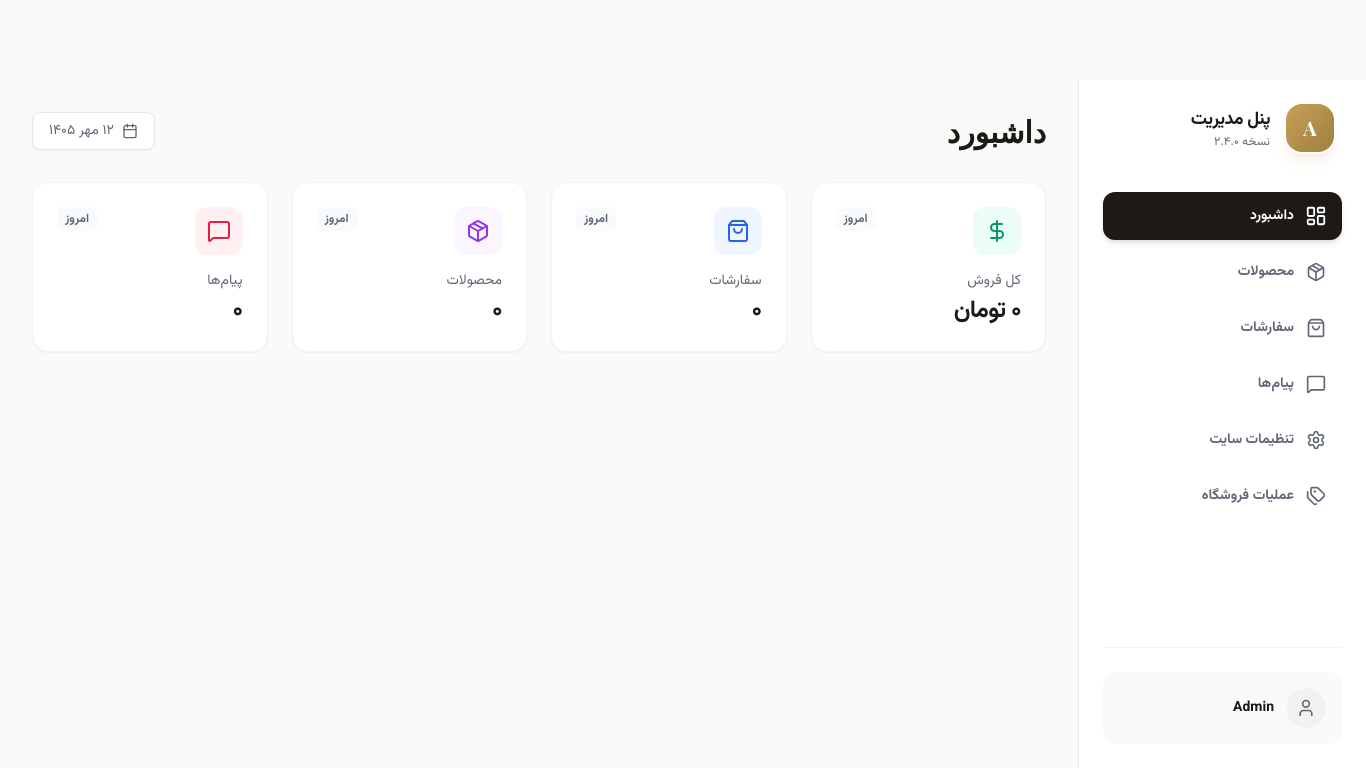
Scenario: product pagination sends search and sort to the server, resets page and handles page failure/retry
Click the button "محصولات". click: click(1222, 272)
box: [1103, 248, 1342, 296]
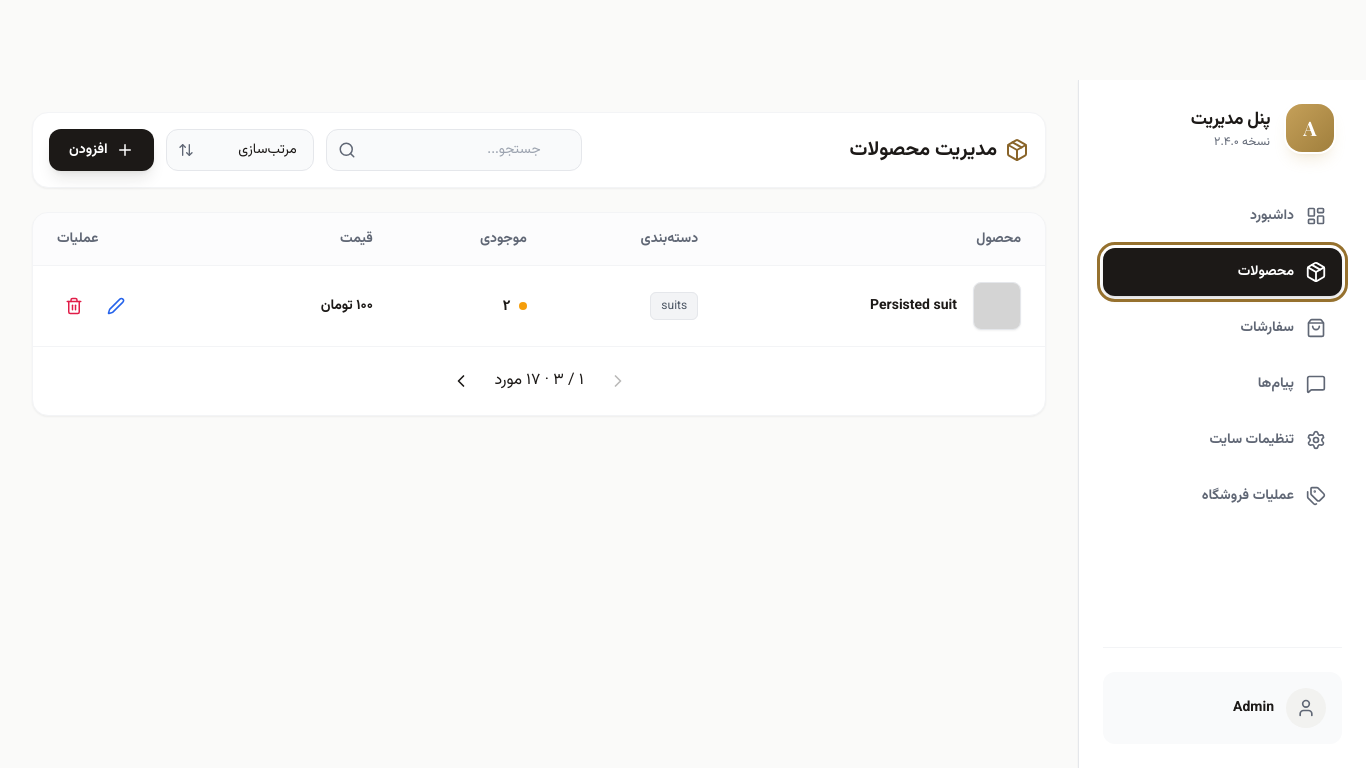
Check: the button named "ویرایش Persisted suit" is shown, box [99, 289, 133, 323]
Click the button named "صفحه بعد". click: click(460, 381)
box: [442, 363, 478, 399]
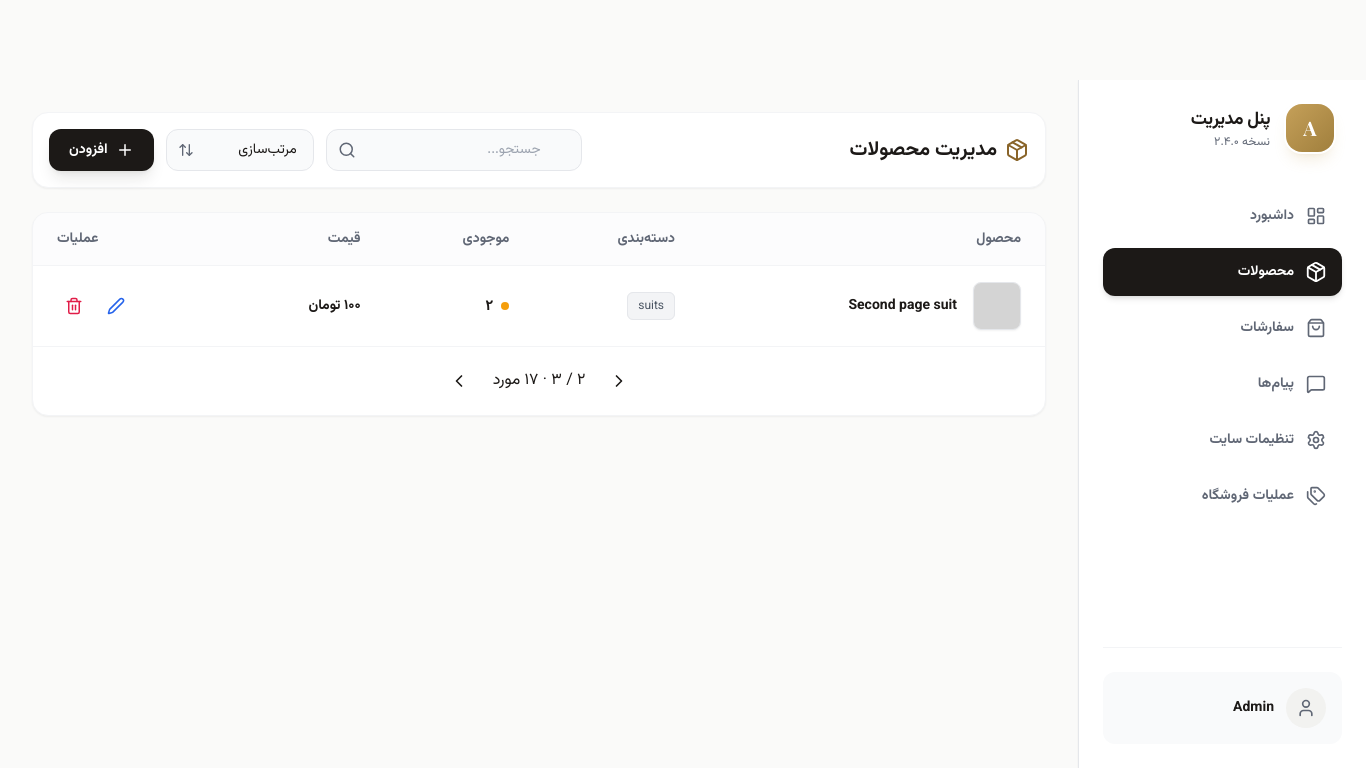
Check: the button named "ویرایش Second page suit" is shown, box [99, 289, 133, 323]
Type "کت" into the search field named "جستجوی محصولات". click: (454, 150)
box: [326, 129, 582, 171]
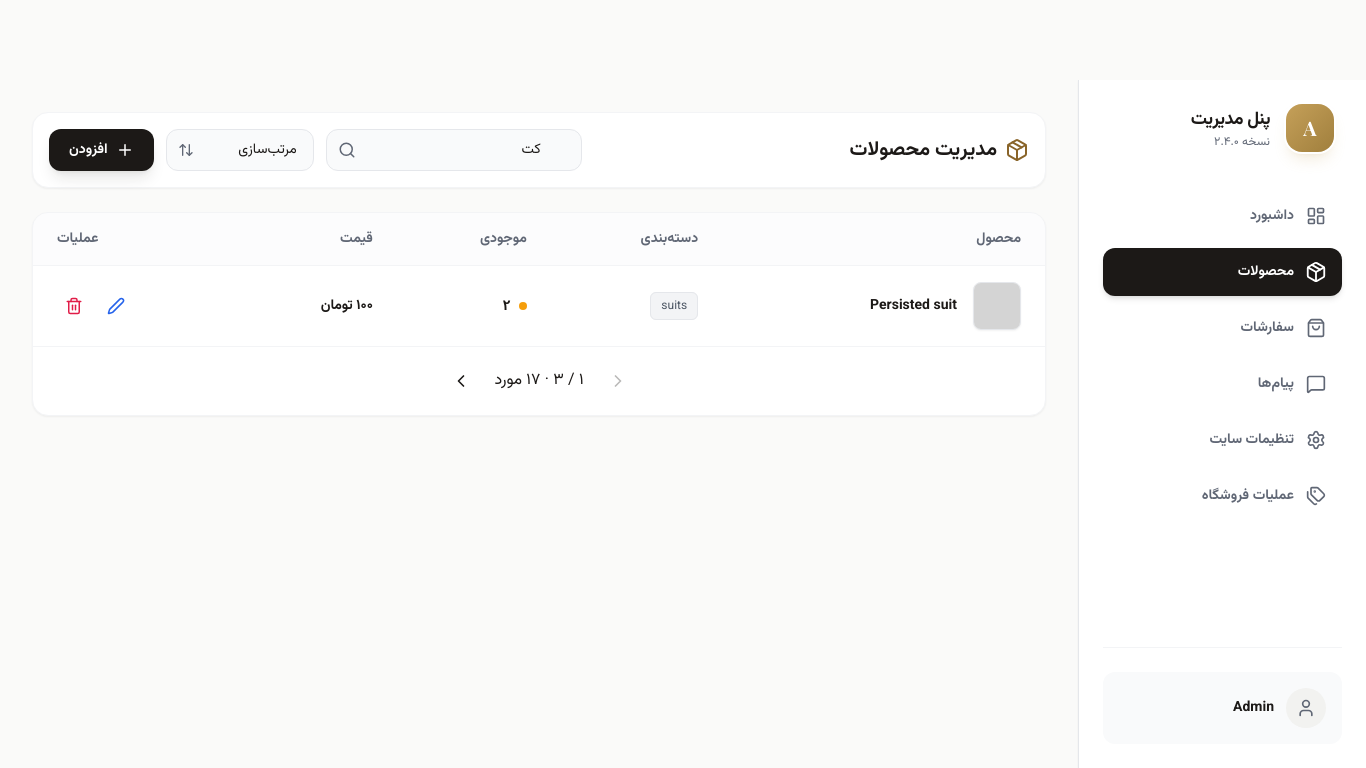
Select "قیمت: زیاد به کم" in the dropdown named "مرتب‌سازی محصولات". click: (240, 150)
box: [166, 129, 314, 171]
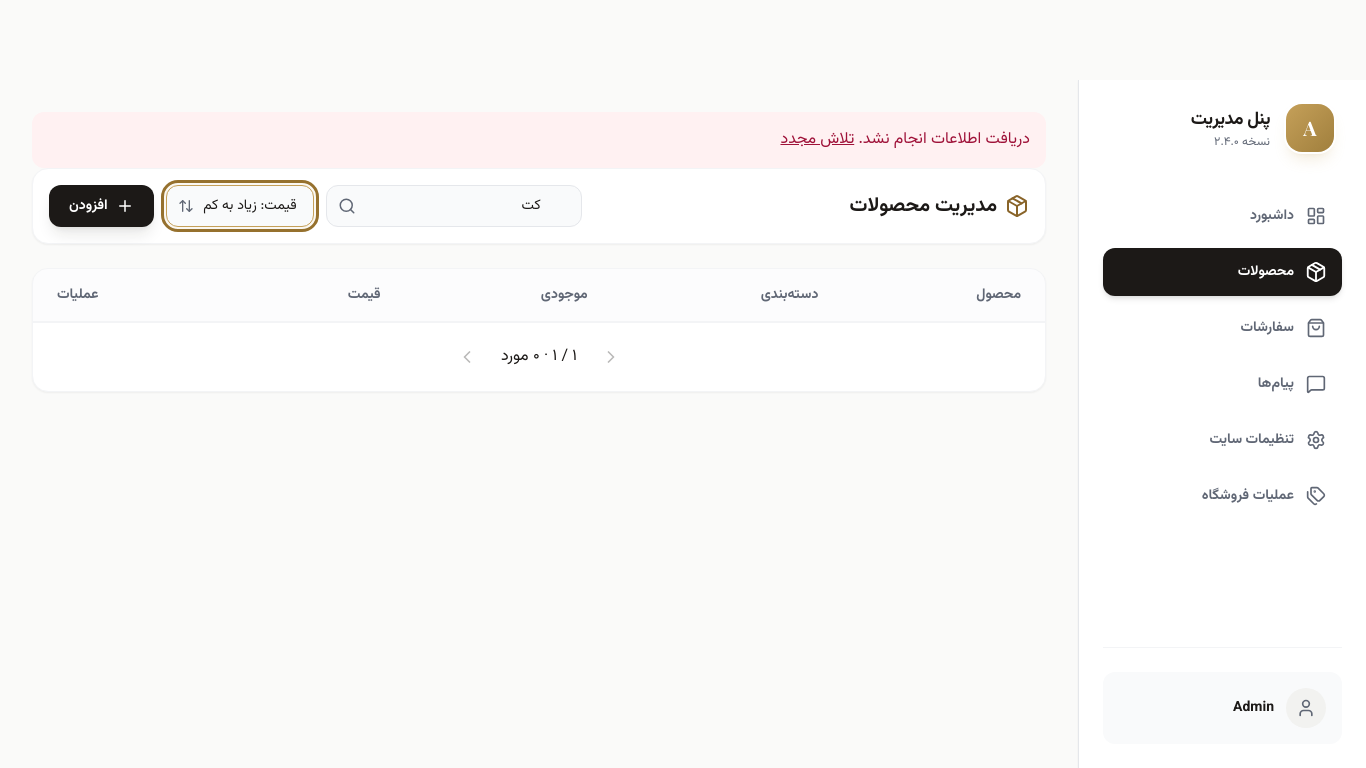
Check: the message "دریافت اطلاعات انجام نشد. تلاش مجدد" is shown, box [32, 112, 1046, 168]
Click the button "تلاش مجدد". click: click(817, 140)
box: [780, 128, 854, 152]
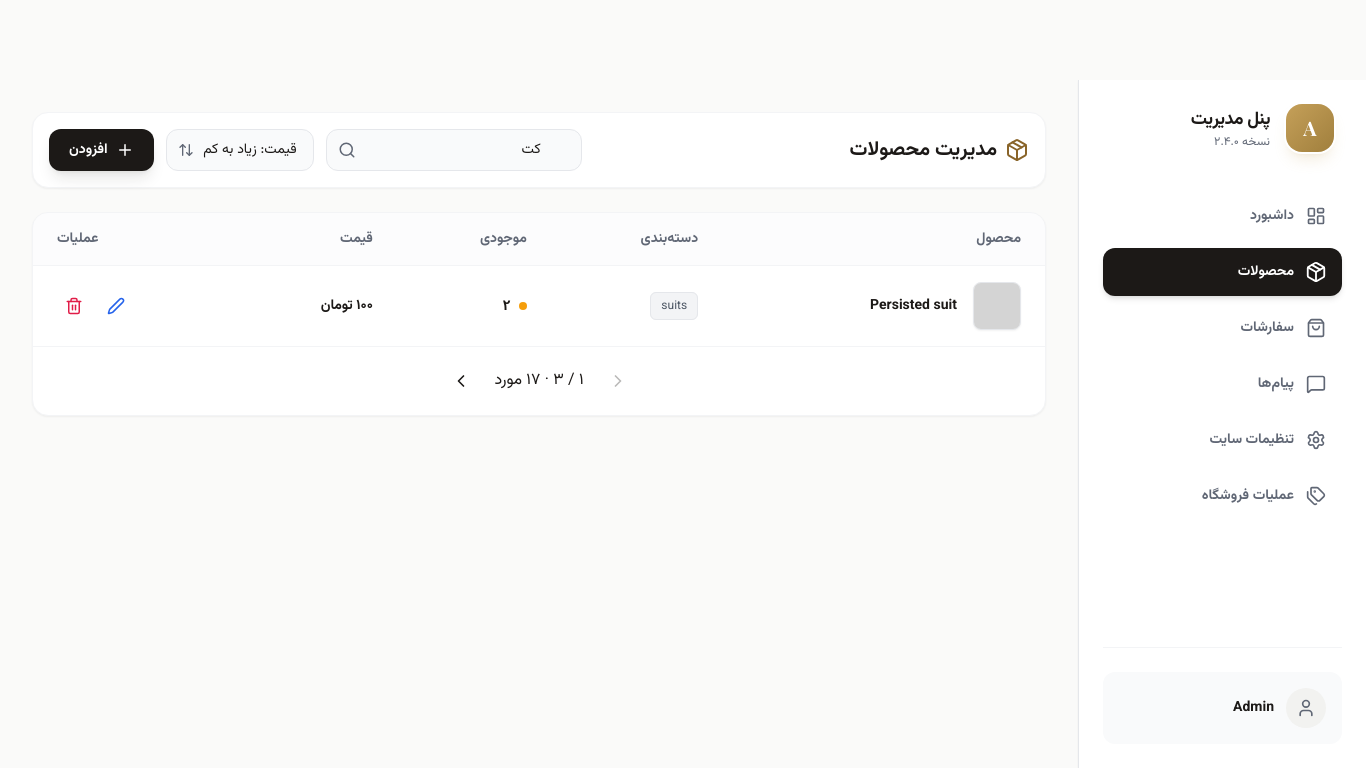
Check: the message "دریافت اطلاعات انجام نشد. تلاش مجدد" is gone
